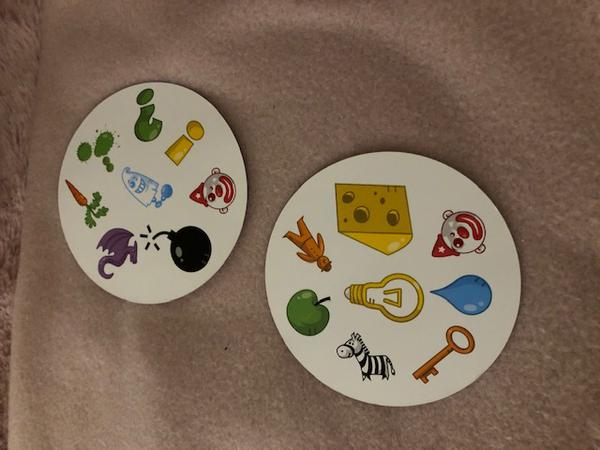ampoule: (340, 267, 427, 328)
bombe: (130, 221, 215, 279)
bonhomme: (283, 210, 334, 275)
carotte: (58, 175, 114, 232)
cle: (411, 324, 476, 385)
clown: (428, 206, 490, 262), (186, 165, 239, 215)
dragon: (90, 227, 147, 283)
fantome: (117, 163, 177, 216)
fromage: (331, 179, 415, 256)
goutte: (430, 271, 493, 319)
point_exclamation: (162, 118, 206, 166)
point_interrogation: (132, 86, 164, 143)
pomme: (280, 284, 335, 340)
tache: (72, 123, 122, 176)
zebre: (334, 331, 397, 385)
